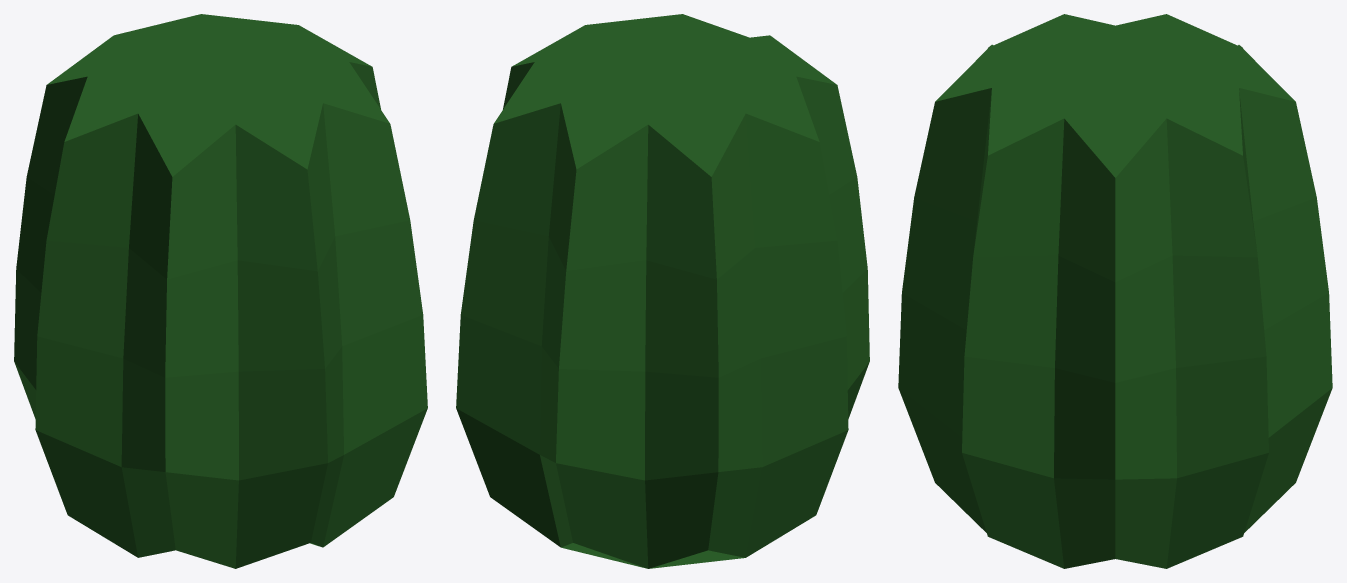
The model's file is Desert_Plant_Kaktus_Small.fbx.
3 views of the same model, side by side, from view 1: azimuth 30°, elevation 25°; view 2: azimuth 150°, elevation 25°; view 3: azimuth 270°, elevation 25° (orthographic).
Visible parts, largest first — view 1: Cylinder.074; view 2: Cylinder.074; view 3: Cylinder.074.
Boxes of the visible parts, left/top/right/bottom form: Cylinder.074: left=14, top=14, right=427, bottom=568; Cylinder.074: left=456, top=14, right=869, bottom=568; Cylinder.074: left=898, top=14, right=1332, bottom=568.
Size of the model in its own units: 81.02 by 92.74 by 81.02.
